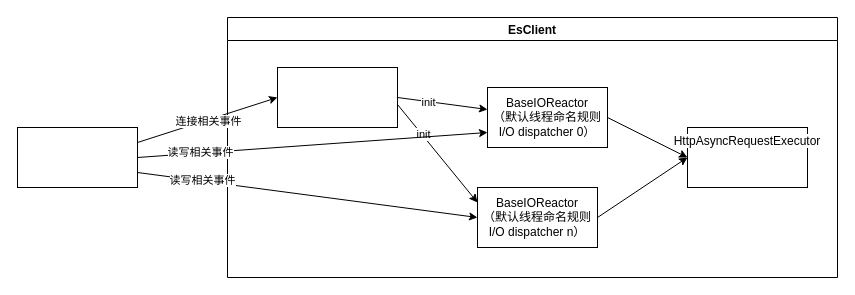
Image size: 855x295. Some labels were removed from this diagram. The shapes that lost their labels are listed below. From the top down, each one's centre as x and y in pixels, then its label:
pixel 337 97: ConnectingIOReactor（默认 线程命名规则pool-12-thread-）
pixel 77 157: EsCluster
